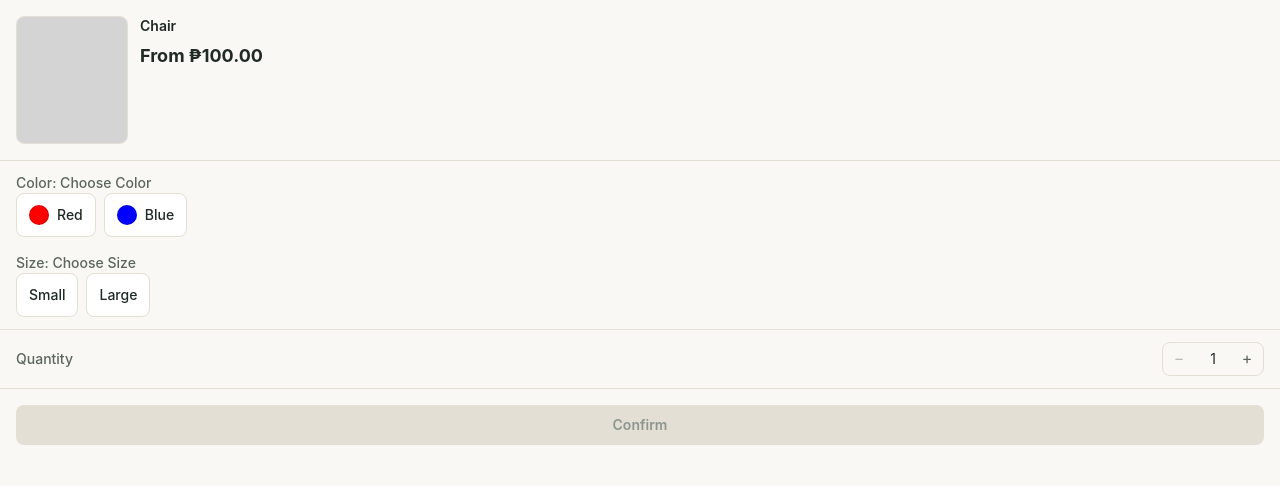
Test case: QuickAddView › keeps confirm disabled until a complete combination is selected
Click the button "Red": (56, 215) [16,193,96,237]
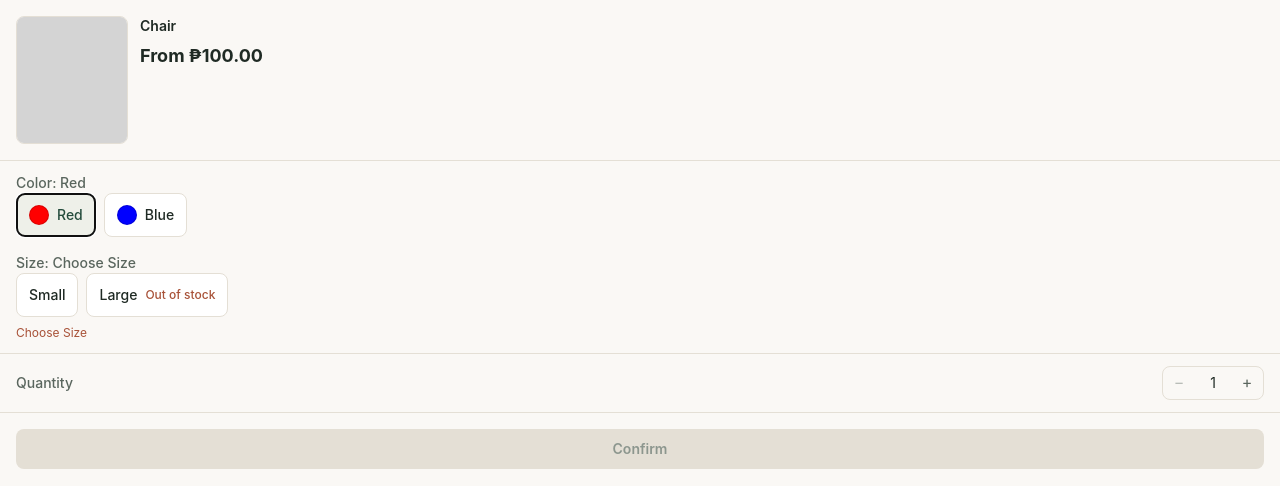
Expected: the button with test id "picker-confirm-chair" is disabled, [16,429,1264,469]
Click the button "Small": (47, 295) [16,273,78,317]
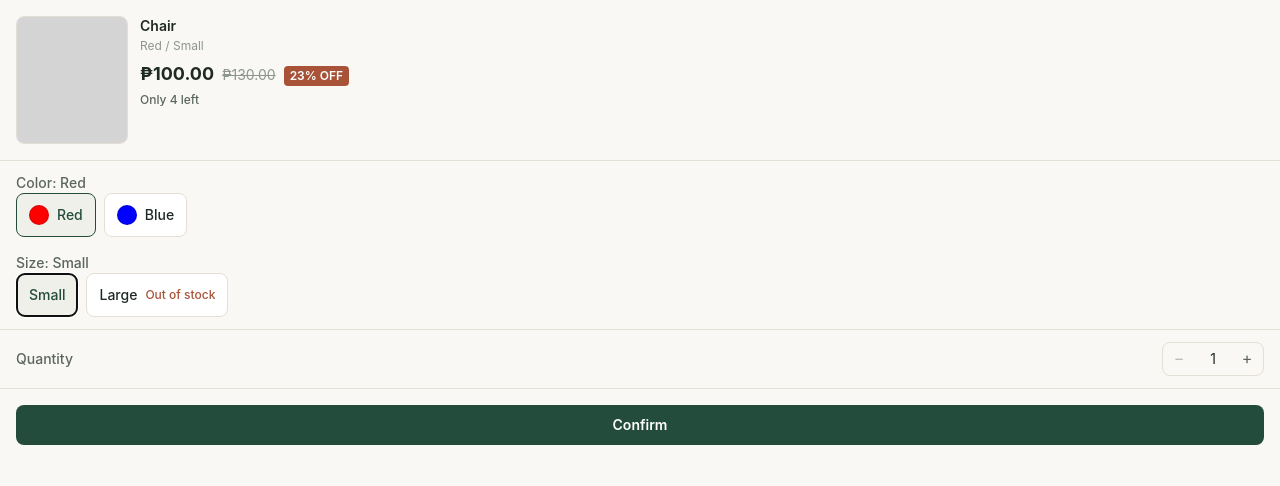
Expected: the button with test id "picker-confirm-chair" is enabled, [16,405,1264,445]
